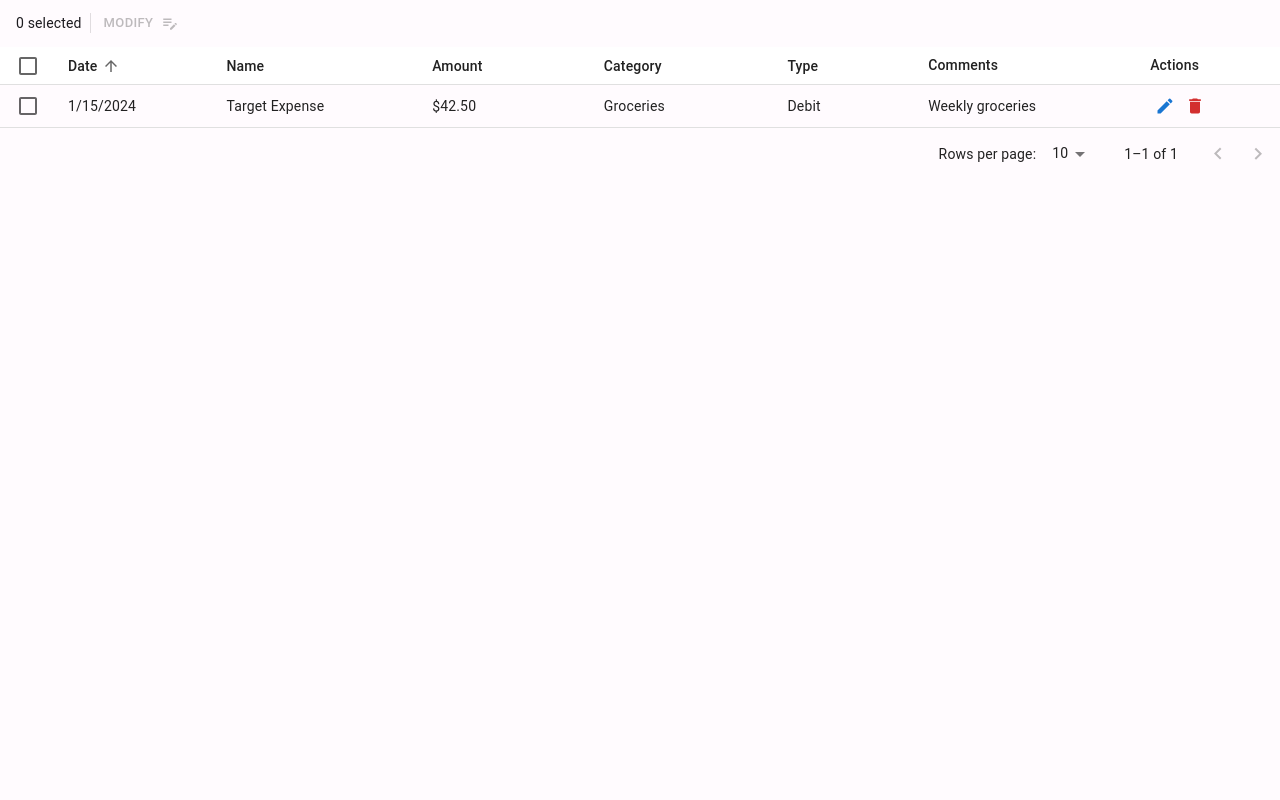
Test case: ImportReviewTable › row actions › should open edit dialog when edit button is clicked on a row
The width and height of the screenshot is (1280, 800).
Click the button named "Edit Target Expense": [1165, 106] box [1150,91,1180,121]
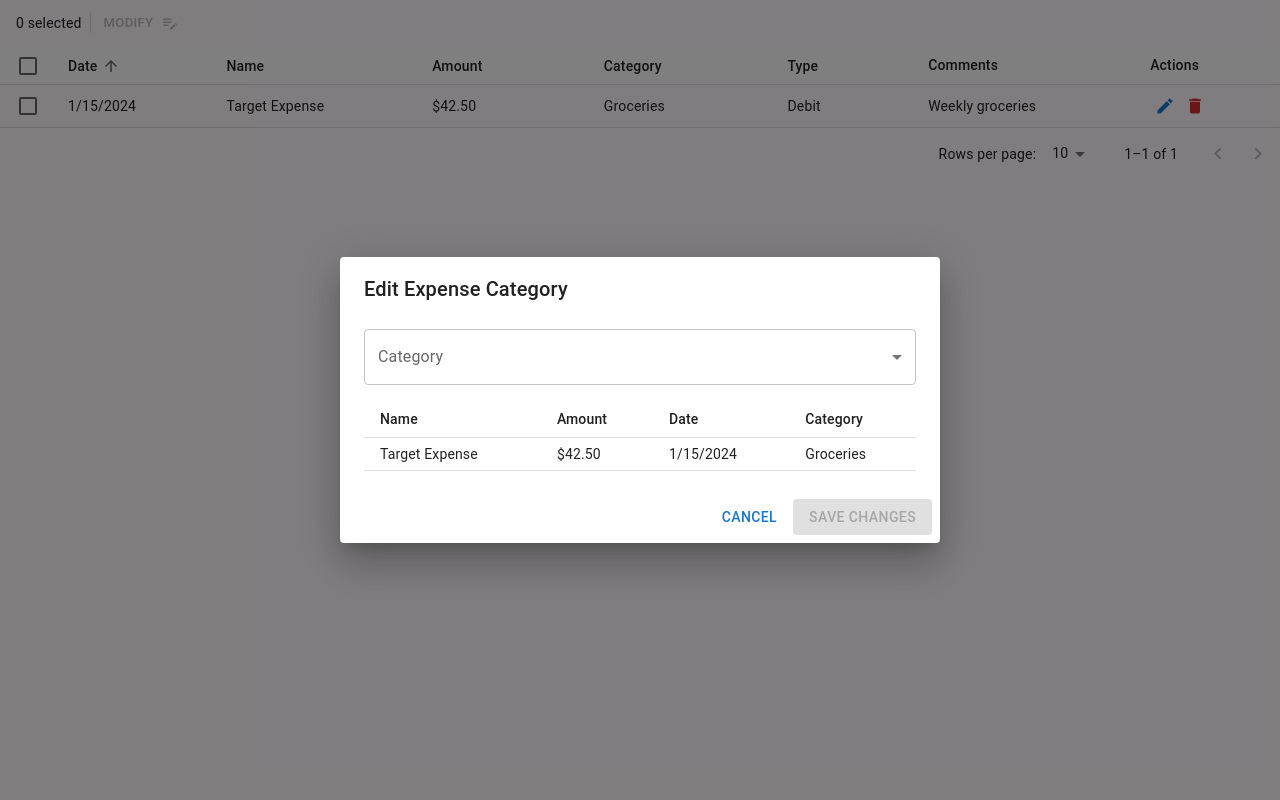
Check: the heading "Edit Expense Category" is shown, box [364,277,568,301]
